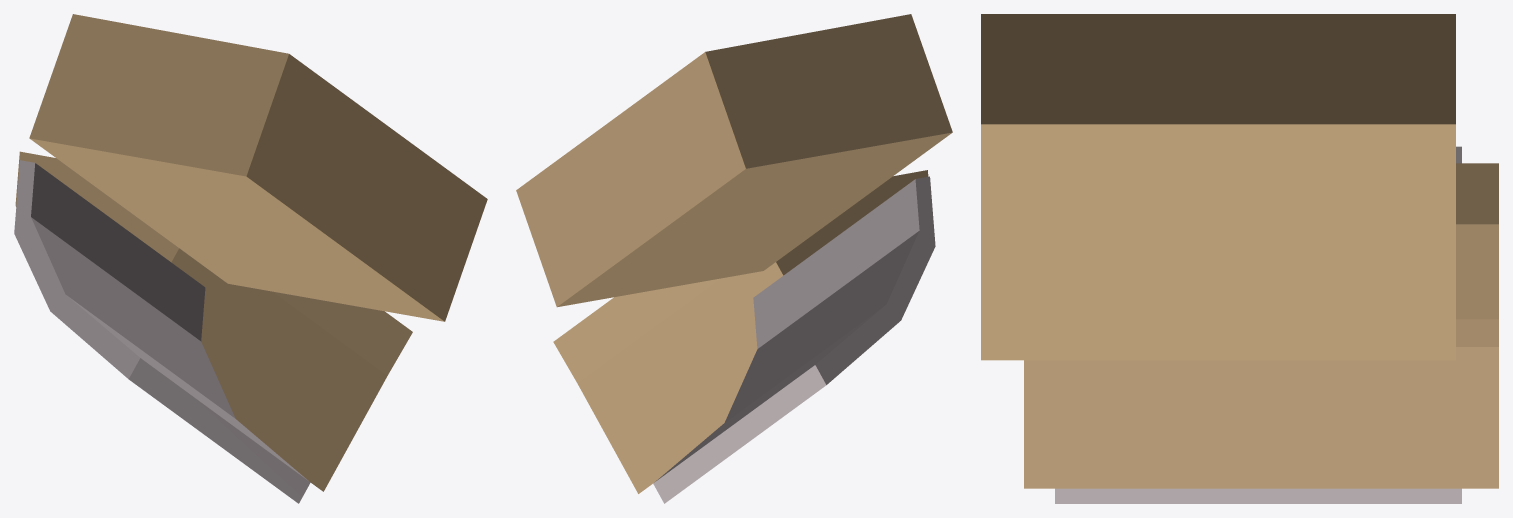
3 renders of one model, left to right at view 1: azimuth 30°, elevation 25°; view 2: azimuth 150°, elevation 25°; view 3: azimuth 270°, elevation 25°, orthographic. The views are drawn at different scales.
Visible parts, largest first — view 1: 0_2_0_1_2_2_2_2_2; view 2: 0_2_0_1_2_2_2_2_2; view 3: 0_2_0_1_2_2_2_2_2.
Boxes of the visible parts, <box> form: 0_2_0_1_2_2_2_2_2: <box>14,14,487,503</box>; 0_2_0_1_2_2_2_2_2: <box>516,14,952,503</box>; 0_2_0_1_2_2_2_2_2: <box>981,14,1498,503</box>.
Size of the model in its own units: 16.64 by 22.25 by 22.89.
